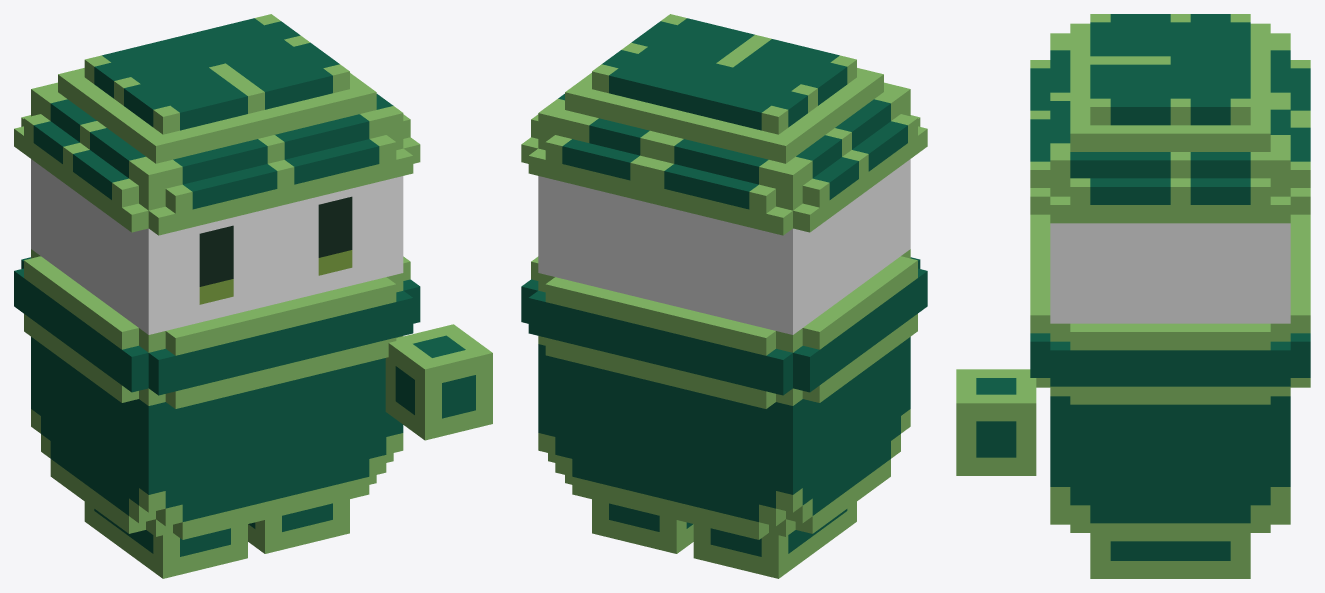
The model's file is p2_grab.gltf.
3 renders of one model, left to right at view 1: azimuth 30°, elevation 25°; view 2: azimuth 150°, elevation 25°; view 3: azimuth 270°, elevation 25°, orthographic. The views are drawn at different scales.
Parts seen in each view (by area): view 1: Object_0.001, Object_0; view 2: Object_0.001; view 3: Object_0.001, Object_0.
Boxes of the visible parts, x1,y1,x2,y2 form: Object_0.001: [14, 14, 420, 578]; Object_0: [385, 324, 492, 440]; Object_0.001: [521, 14, 927, 578]; Object_0.001: [1030, 14, 1310, 578]; Object_0: [956, 369, 1036, 475].
Size of the model in its own units: 1.86 by 2.6 by 1.77.
2 materials, 2 textured.
